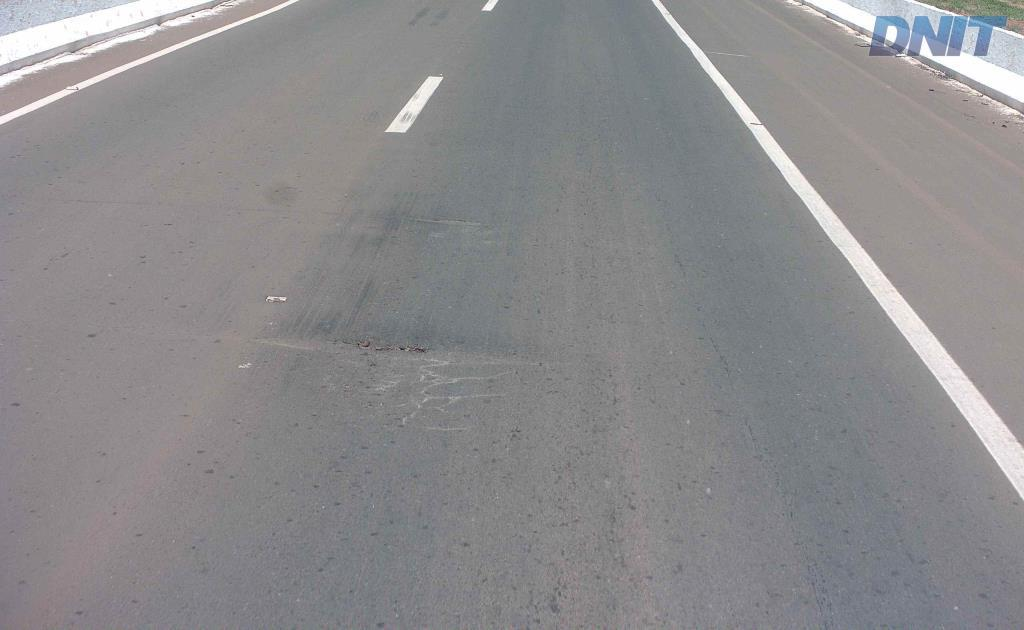pothole: (256, 329, 571, 368), (402, 214, 488, 229)
